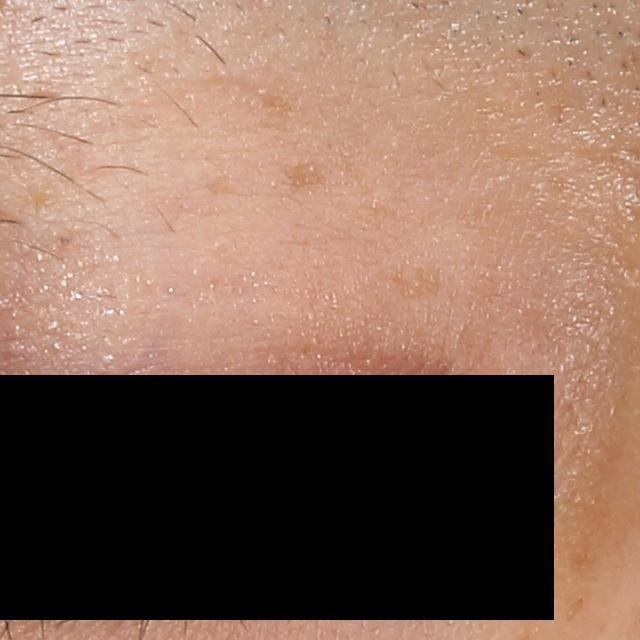melasma: (275, 158, 336, 192)
